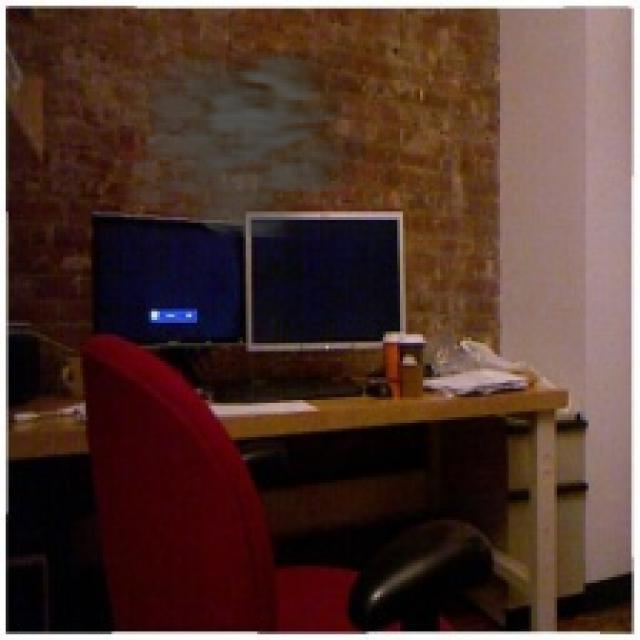Smoke: (97, 37, 366, 237)
